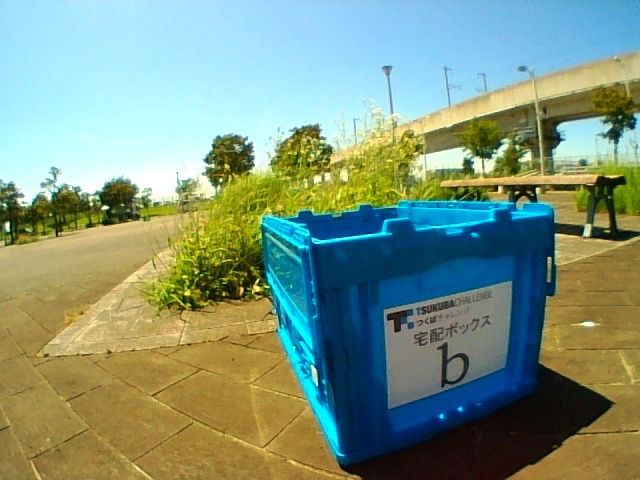blue_box: (331, 205, 536, 392)
tag_b: (412, 308, 473, 387)
